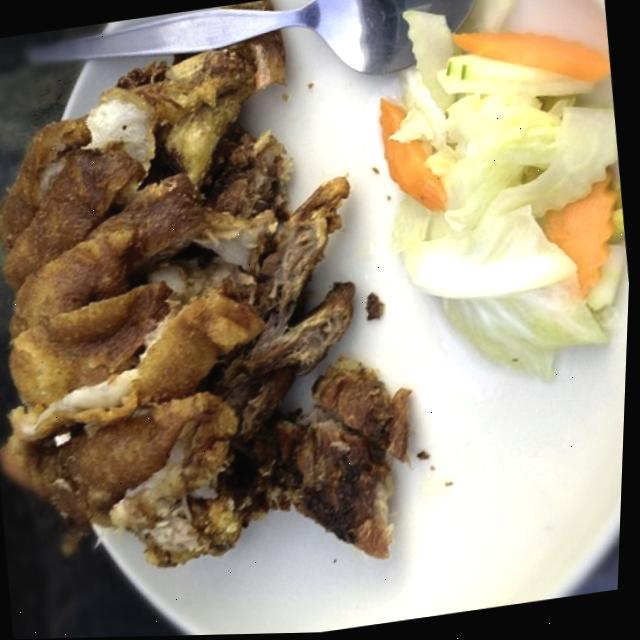猪肉菜式: (0, 7, 458, 605)
